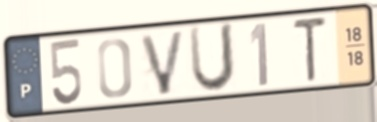0: (95, 35, 135, 100)
1: (248, 20, 270, 89)
5: (48, 36, 84, 107)
T: (290, 15, 330, 86)
U: (186, 20, 237, 96)
V: (137, 27, 188, 98)
